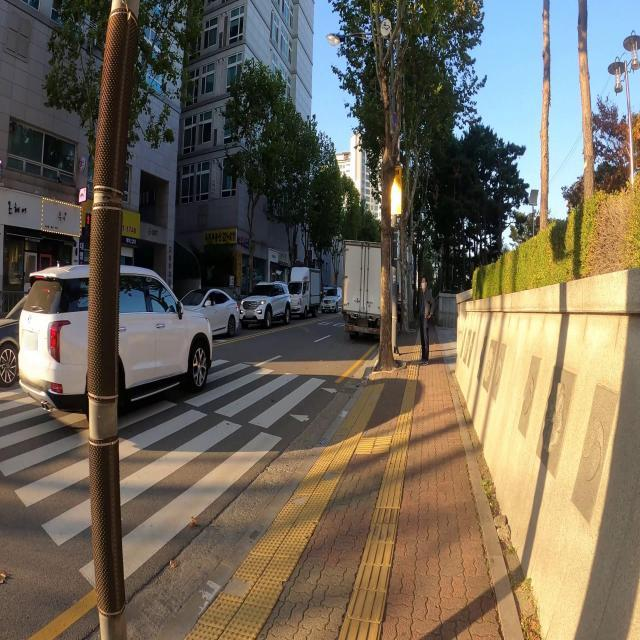crosswalk: (1, 353, 345, 603)
